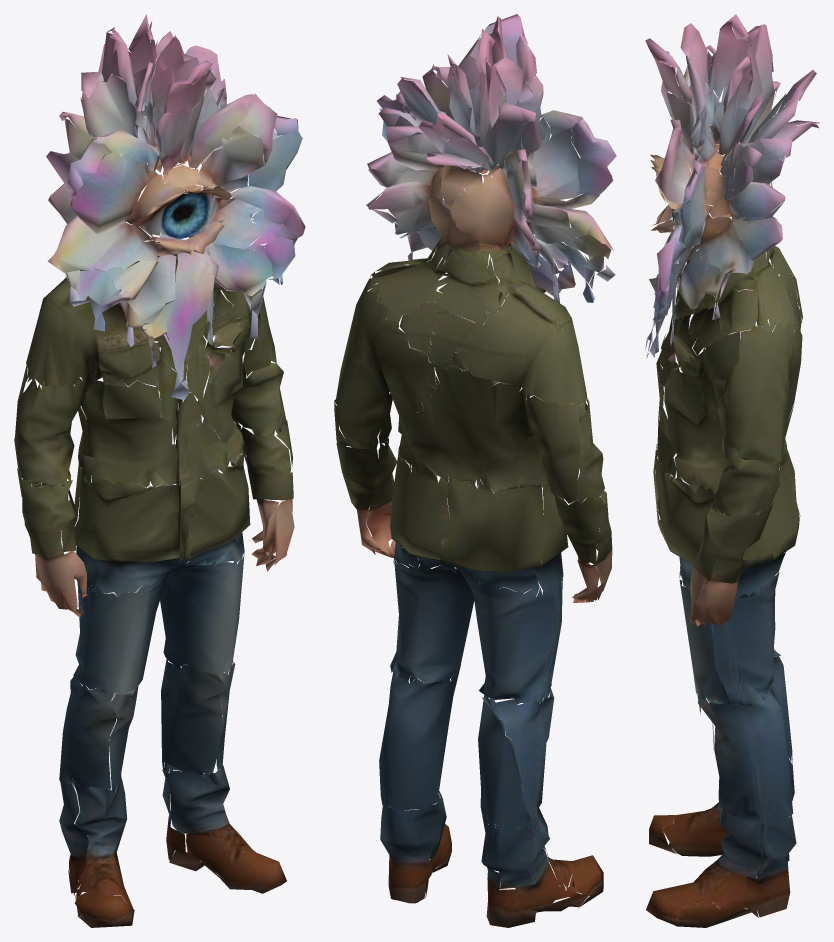
The model's file is crowd_cabbie_full.glb.
3 renders of one model, left to right at view 1: azimuth 30°, elevation 25°; view 2: azimuth 150°, elevation 25°; view 3: azimuth 270°, elevation 25°, orthographic.
Visible parts, largest first — view 1: tripo_node_a42e675f-a73e-45f9-b257-74cbc0c52e2a; view 2: tripo_node_a42e675f-a73e-45f9-b257-74cbc0c52e2a; view 3: tripo_node_a42e675f-a73e-45f9-b257-74cbc0c52e2a.
Boxes of the visible parts, x1,y1,x2,y2 form: tripo_node_a42e675f-a73e-45f9-b257-74cbc0c52e2a: [14, 14, 305, 927]; tripo_node_a42e675f-a73e-45f9-b257-74cbc0c52e2a: [334, 14, 616, 927]; tripo_node_a42e675f-a73e-45f9-b257-74cbc0c52e2a: [645, 14, 819, 927].
Bounding box in the file's own units: 0.3155 × 1 × 0.1828.
1 material, 1 textured.
